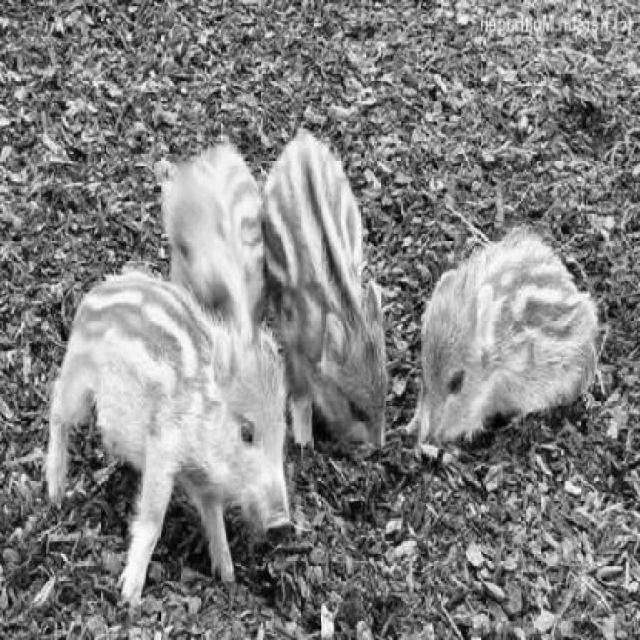Boar: (2, 292, 300, 597), (394, 208, 615, 480), (293, 192, 415, 470)
